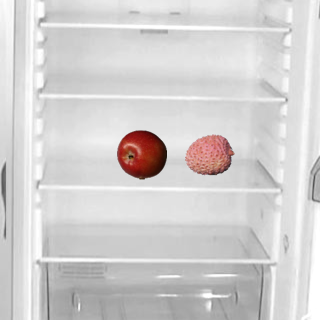Apple Braeburn: (116, 129, 166, 179)
Lychee: (184, 129, 234, 179)
